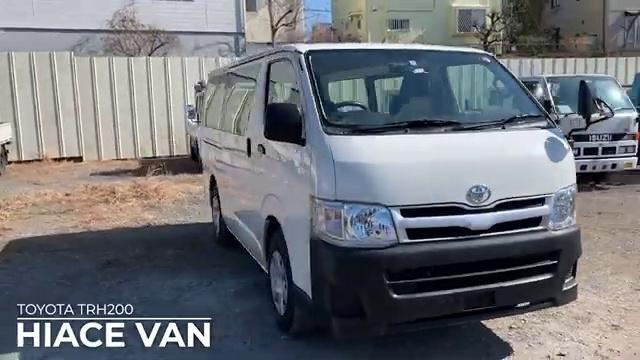Van: (192, 46, 581, 326)
